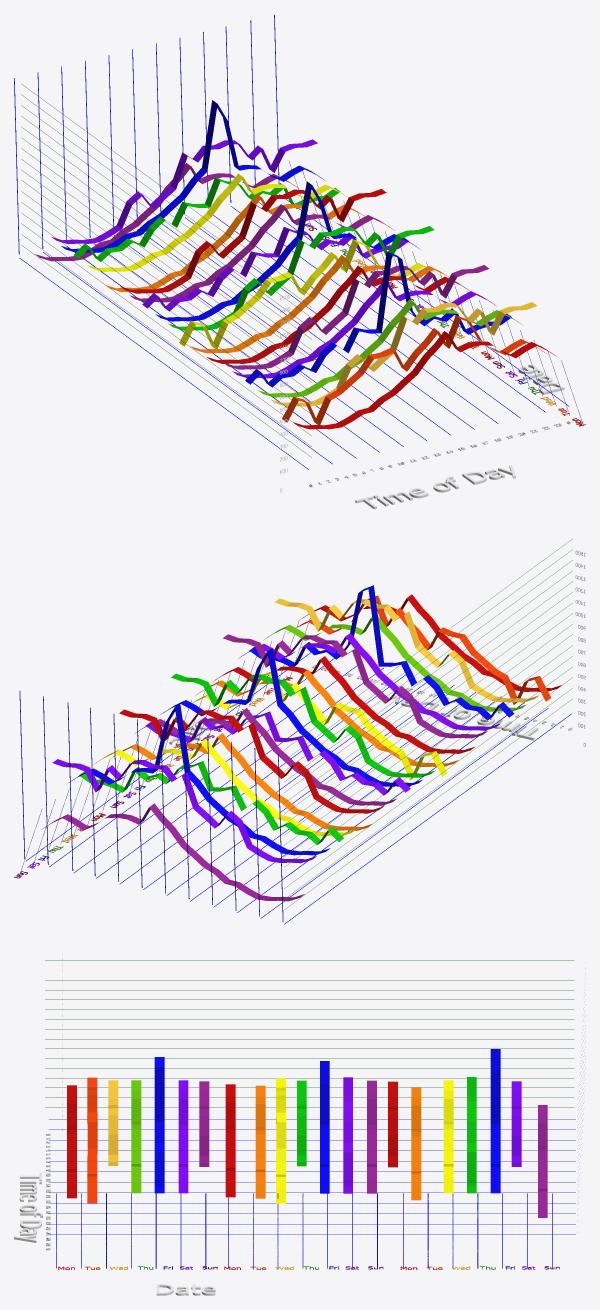
3 renders of one model, top to bottom at view 1: azimuth 30°, elevation 25°; view 2: azimuth 150°, elevation 25°; view 3: azimuth 270°, elevation 25°, orthographic. The views are drawn at different scales.
Visible parts, largest first — view 1: group_4, group_18, group_1, group_10, group_19, group_8, group_9, group_2, group_13, group_16, group_12, group_0 (+9 smaller); view 2: group_4, group_19, group_16, group_2, group_8, group_10, group_18, group_13, group_1, group_17, group_20, group_9 (+9 smaller); view 3: group_22 (×12), group_23 (×4), group_18, group_4, group_1, group_13, group_9, group_3, group_6, group_14, group_21, group_5 (+11 smaller).
Part boxes in pixels (x1,y1,x2,y2): group_4: (245,251,511,387); group_18: (61,100,324,252); group_1: (282,315,546,424); group_10: (120,189,386,293); group_19: (52,139,317,244); group_8: (223,265,489,369); group_9: (179,239,442,348); group_2: (271,302,536,406); group_13: (155,181,420,321); group_16: (168,226,434,330); group_12: (142,227,408,311); group_0: (293,331,556,429); group_4: (249,585,514,720); group_19: (52,759,316,863); group_16: (171,673,435,777); group_2: (274,598,539,702); group_8: (223,634,487,738); group_10: (119,709,383,813); group_18: (69,703,330,855); group_13: (161,648,422,786); group_1: (287,595,550,704); group_17: (79,761,343,844); group_20: (41,803,304,901); group_9: (184,672,447,779); group_22 (×12): (45,960,573,1078); group_23 (×4): (49,1203,575,1234); group_18: (490,1049,500,1193); group_4: (154,1057,164,1193); group_1: (87,1077,97,1203); group_13: (320,1061,329,1193); group_9: (276,1078,286,1203); group_3: (131,1080,141,1193); group_6: (225,1084,235,1197); group_14: (255,1085,265,1198); group_21: (443,1080,453,1193); group_5: (178,1080,188,1193).
Size of the model in its own units: 154 by 248 by 94.12.
